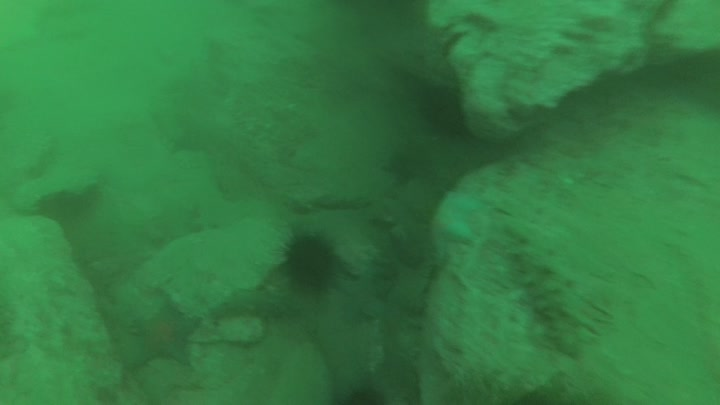echinus: (278, 224, 347, 294), (415, 87, 468, 137), (334, 383, 388, 405)
holothurian: (497, 221, 592, 357), (206, 291, 306, 326)
starfish: (126, 307, 199, 372), (427, 192, 480, 254)
